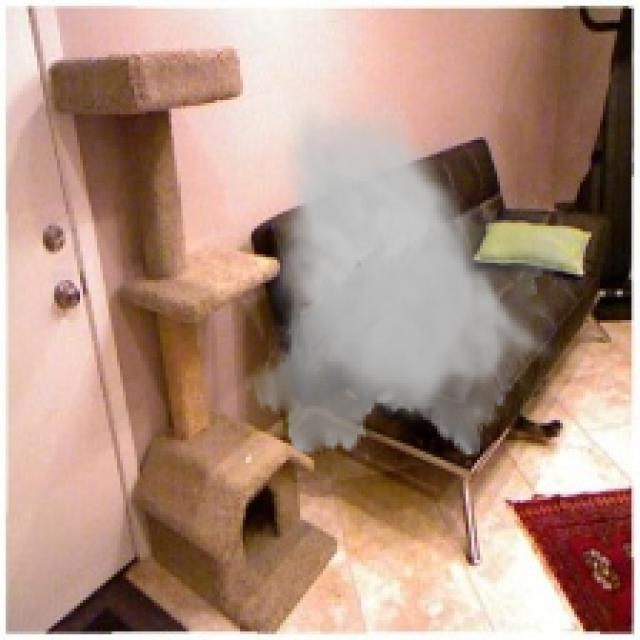smoke: (243, 88, 588, 466)
